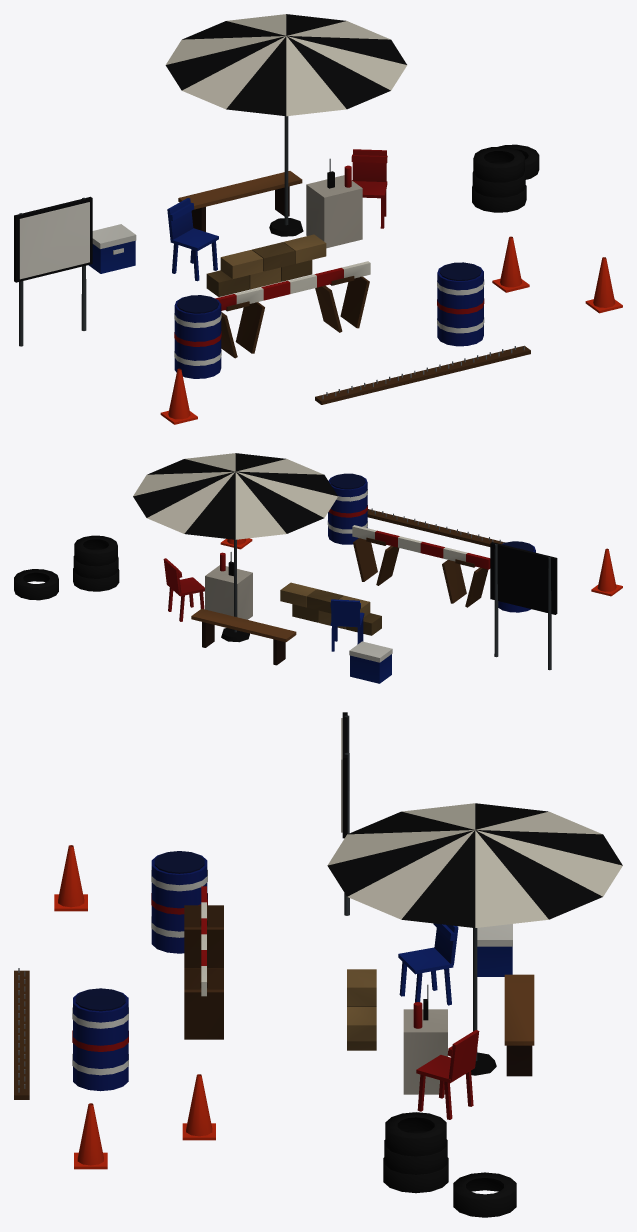
The model's file is cp_roadblock.glb.
3 views of the same model, one above another, from view 1: azimuth 30°, elevation 25°; view 2: azimuth 150°, elevation 25°; view 3: azimuth 270°, elevation 25° (orthographic). The views are drawn at different scales.
Parts seen in each view (by area): view 1: cp_roadblock; view 2: cp_roadblock; view 3: cp_roadblock.
Boxes of the visible parts, x1,y1,x2,y2 form: cp_roadblock: (14,14,622,424); cp_roadblock: (14,453,622,683); cp_roadblock: (14,712,622,1217).
Size of the model in its own units: 8.28 by 2.65 by 6.18.
